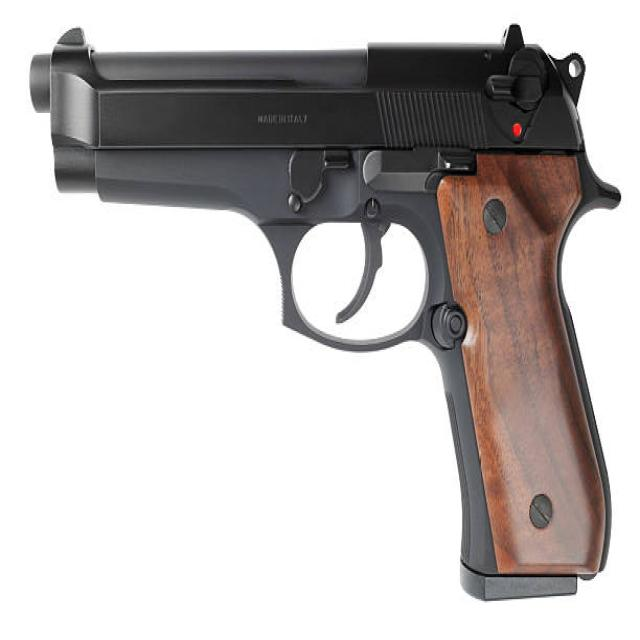pistol: (26, 17, 629, 612)
